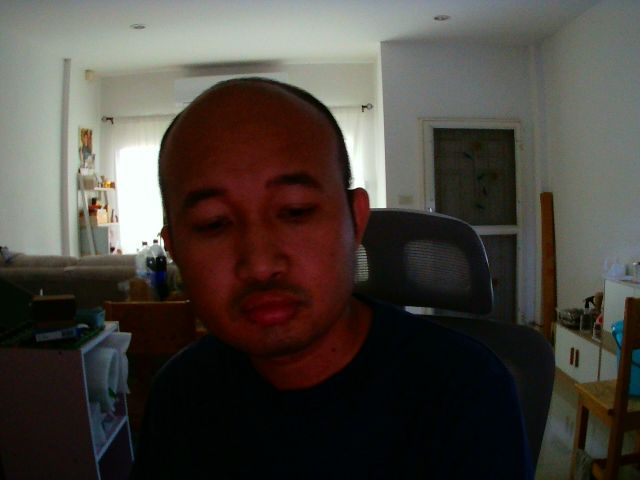face: (151, 77, 366, 359)
